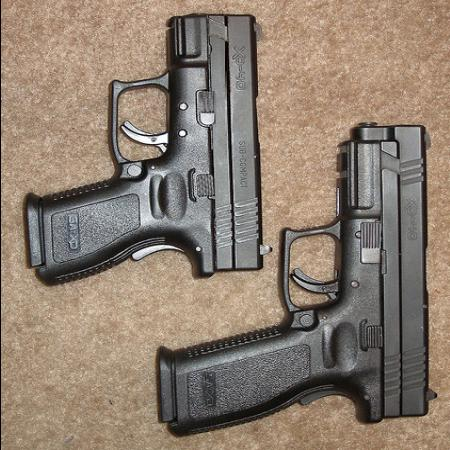Pistol: (157, 124, 437, 434), (26, 14, 270, 285)
